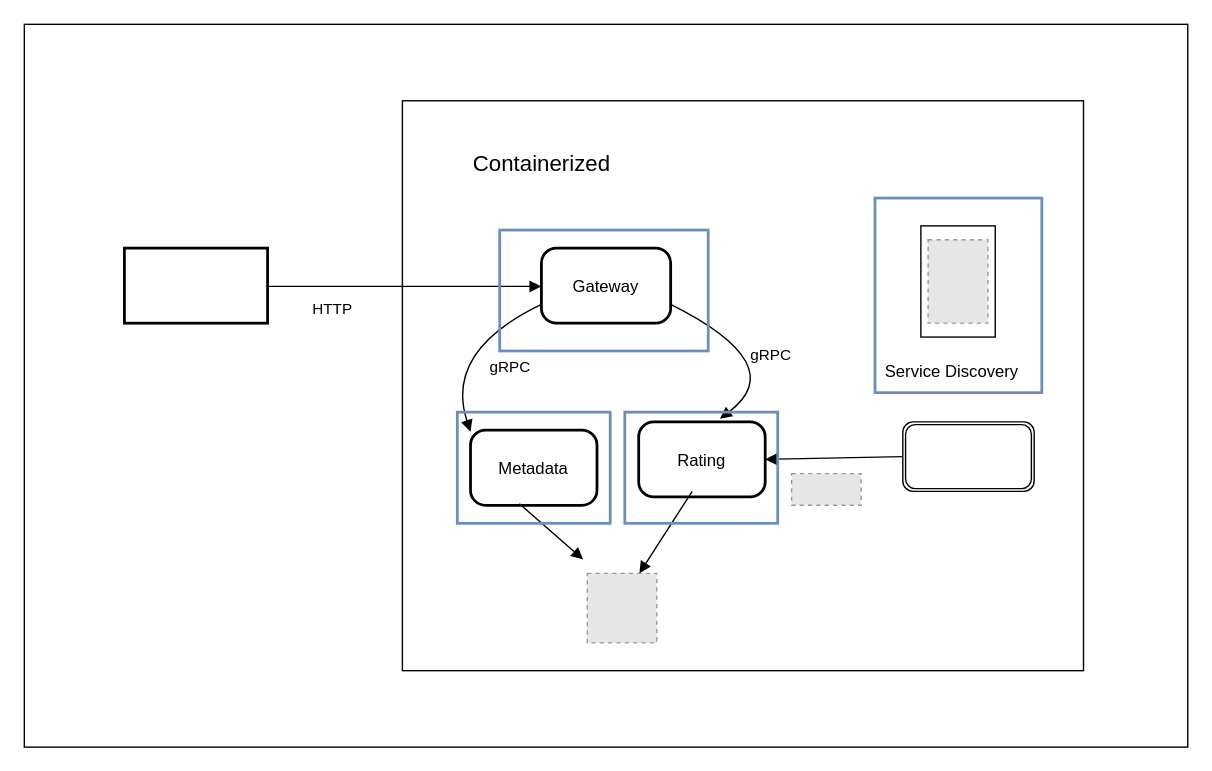
Some shapes in this 1212 by 771 pixel diagram are drawn without their labels. Grey dashed boxes stand in for pictures. Here are the shapes that lost their labels. From the top down, the centre of each, then its label:
At [195,285]: "Client".
At [967,455]: "External Rating Source".
